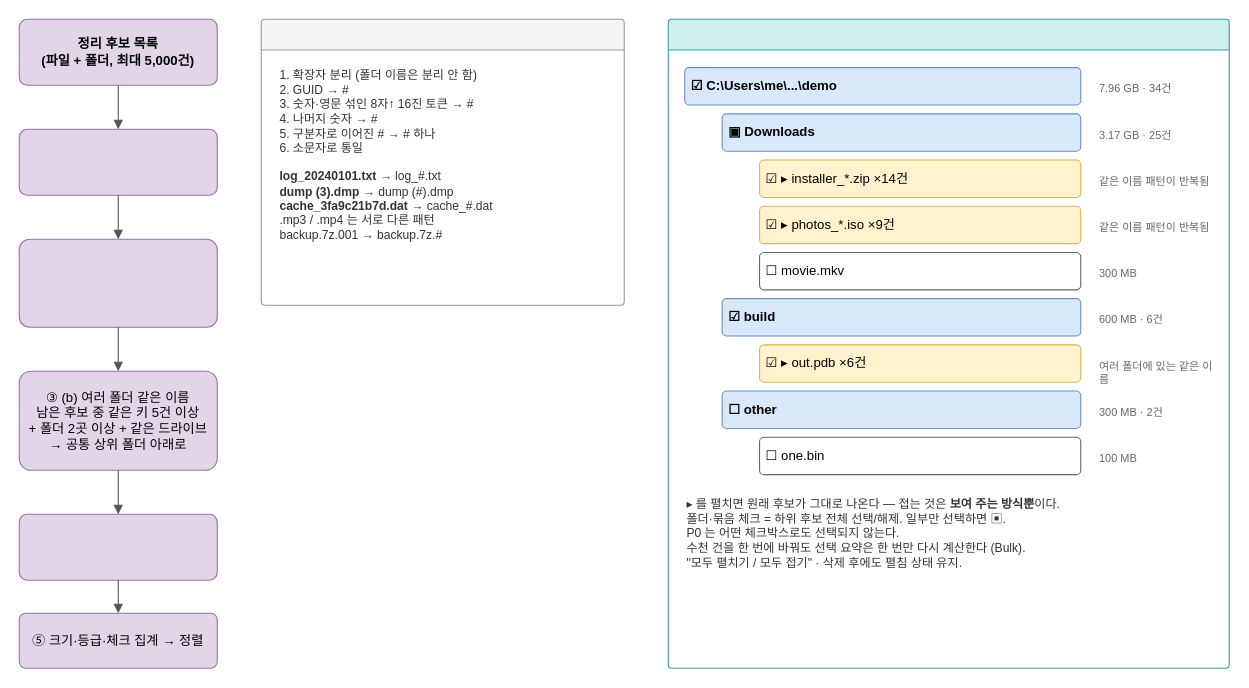
This 1249x688 diagram has some shape labels left out. Here are the shapes that lost their labels. From the top down, the box of each, then its label:
(18, 128, 217, 195): ① 부모 폴더별로 묶기 (드라이브 → 폴더 체인)
(260, 18, 624, 305): 패턴 키 만들기 (PatternKey)
(18, 238, 217, 327): ② (a) 같은 폴더 패턴 숫자·날짜·해시만 다른 이름 같은 키 5건 이상 → 접기
(667, 18, 1229, 668): 결과: 폴더 트리 (□ 3단계 체크박스)
(18, 513, 217, 580): ④ 한 갈래 폴더 체인 합치기 C:\Users\me\AppData
